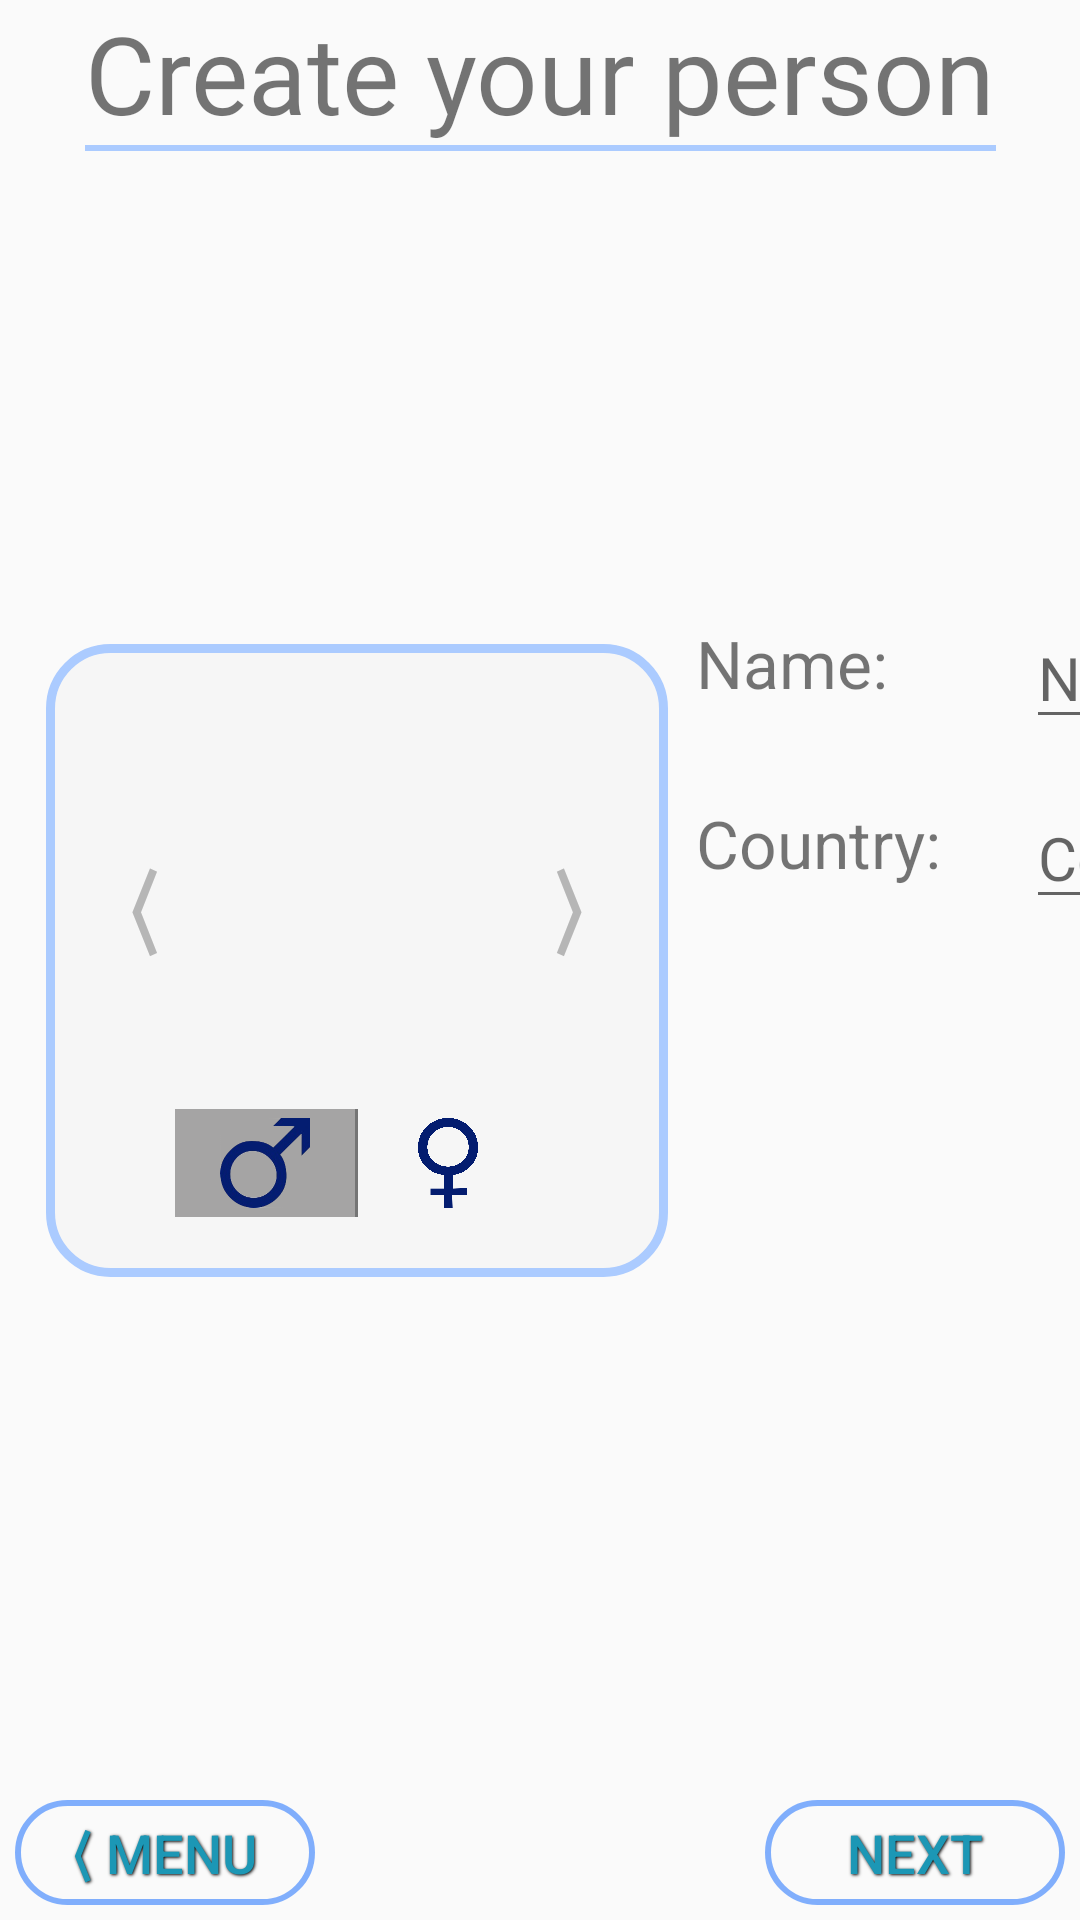

Point at icon controls on the screen. Image size 1080*1920, points as (x,y).
girl sign: (448,1163)
man sign: (265,1163)
